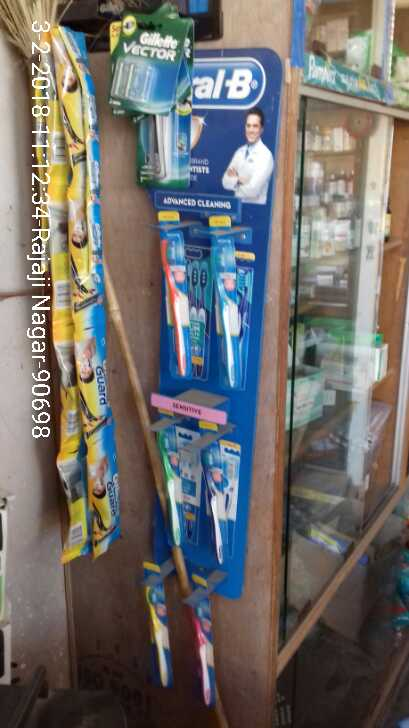beauty: (107, 10, 187, 113), (51, 26, 100, 141), (70, 326, 121, 430), (86, 441, 127, 548), (68, 187, 107, 295)
pharmacy: (204, 214, 250, 396), (156, 206, 196, 378), (139, 557, 177, 689), (187, 569, 216, 709)
